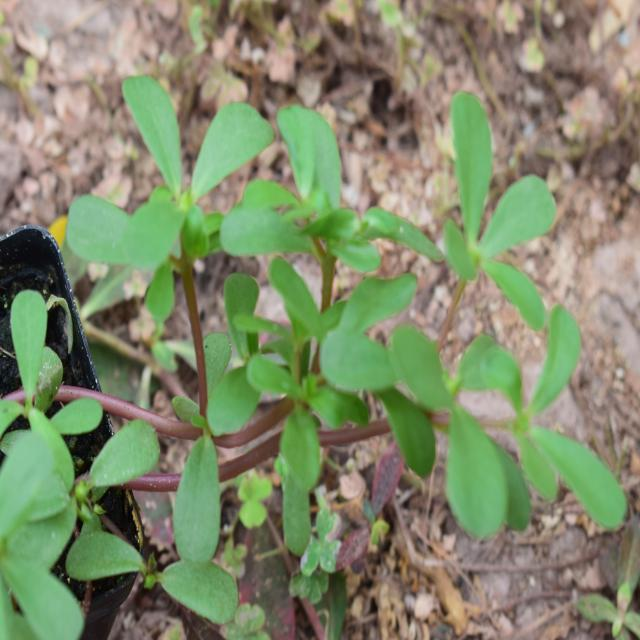purslane: (73, 76, 617, 544)
